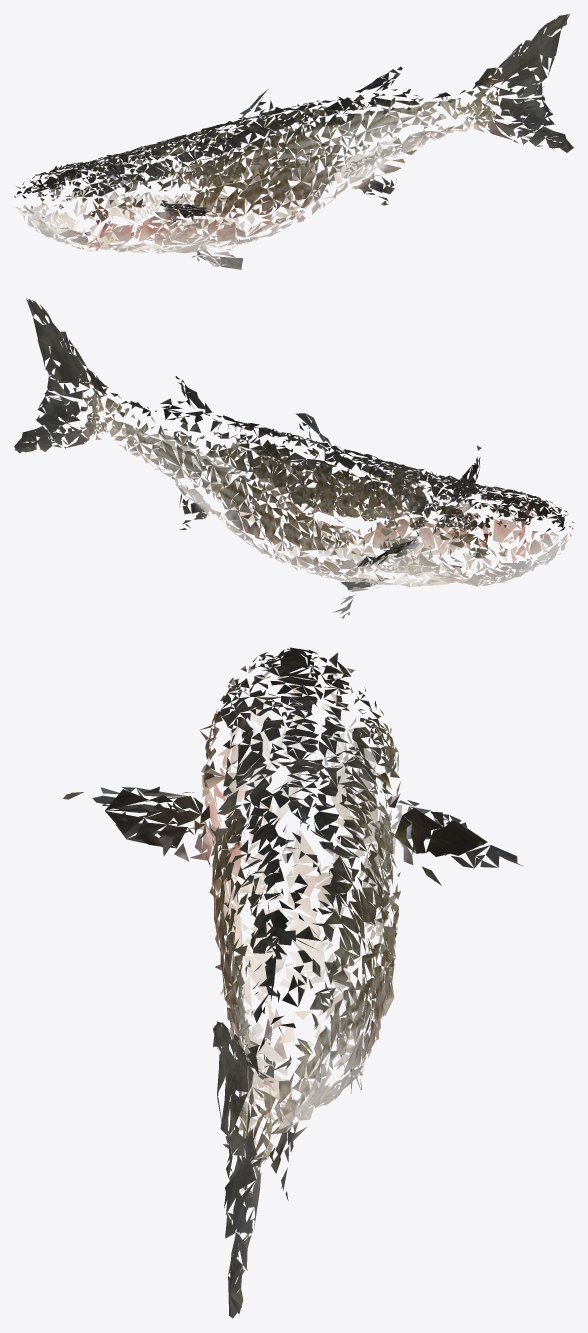
The model's file is flathead-mullet.glb.
3 views of the same model, one above another, from view 1: azimuth 30°, elevation 25°; view 2: azimuth 150°, elevation 25°; view 3: azimuth 270°, elevation 25° (orthographic). The views are drawn at different scales.
Parts seen in each view (by area): view 1: flathead-mullet; view 2: flathead-mullet; view 3: flathead-mullet.
Part boxes in pixels (left/top/right/bottom): flathead-mullet: left=14, top=14, right=573, bottom=269; flathead-mullet: left=14, top=298, right=573, bottom=618; flathead-mullet: left=63, top=647, right=523, bottom=1318.
Size of the model in its own units: 18.7 by 6.41 by 6.96.
1 material, 1 textured.
